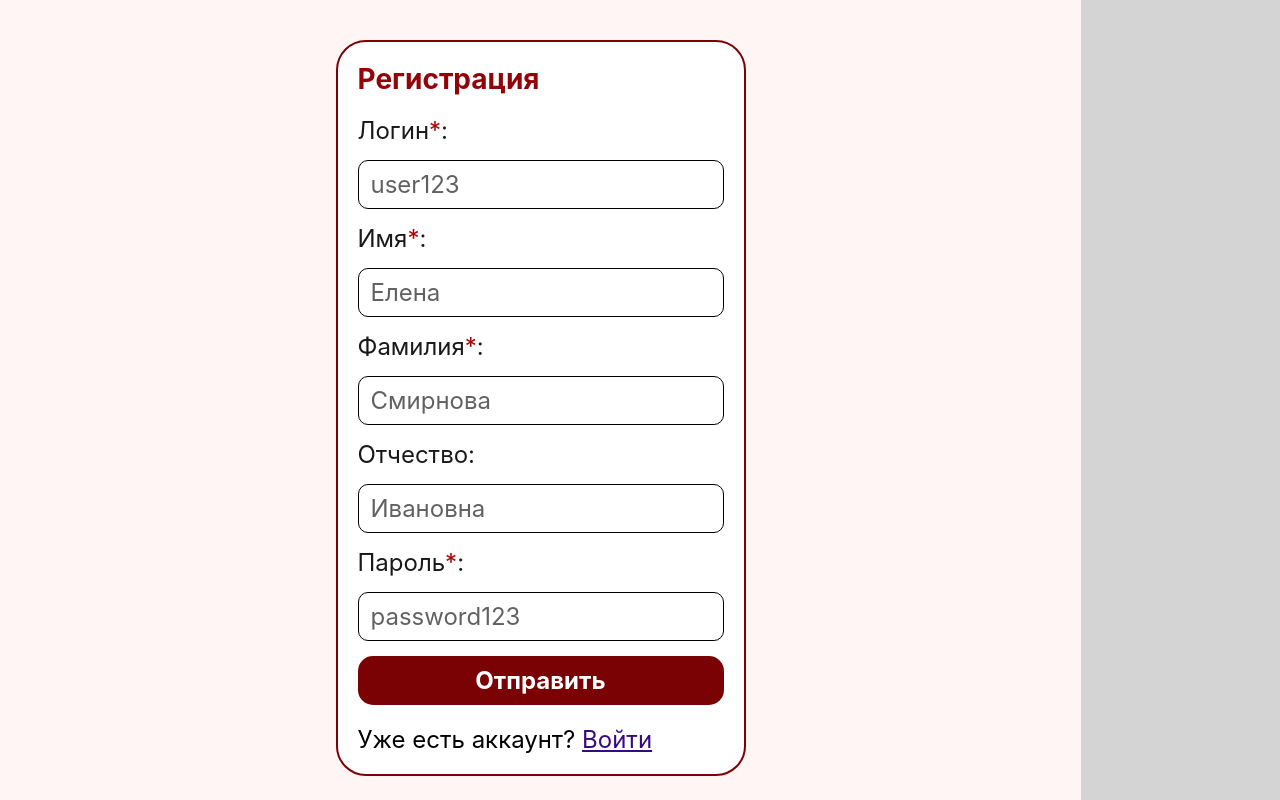
Test: Registration Integration › отображает ошибку при неудачной регистрации (409)
The width and height of the screenshot is (1280, 800).
Type "existing" into the field with placeholder "user123".
click(540, 184); type("existing")  # box [358,160,724,209]
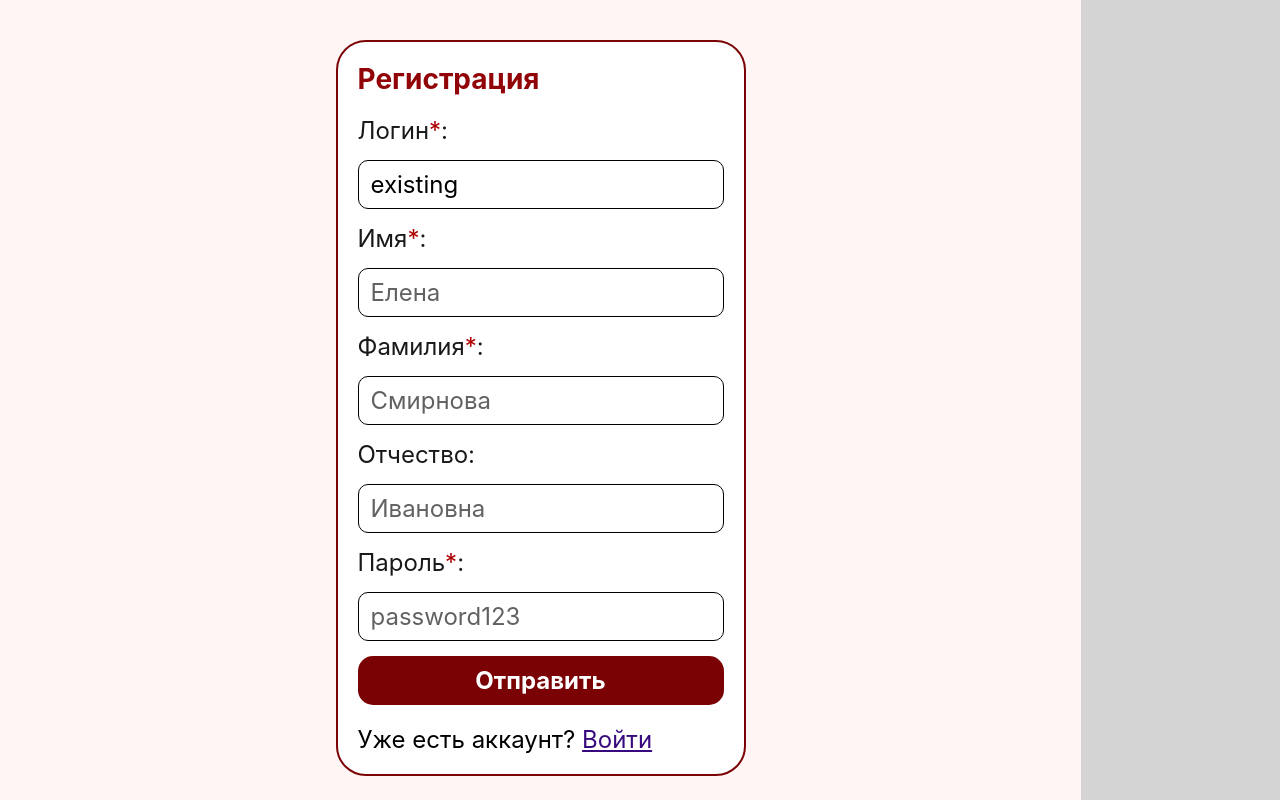
Type "Существ" into the field with placeholder "Елена".
click(540, 292); type("Существ")  # box [358,268,724,317]
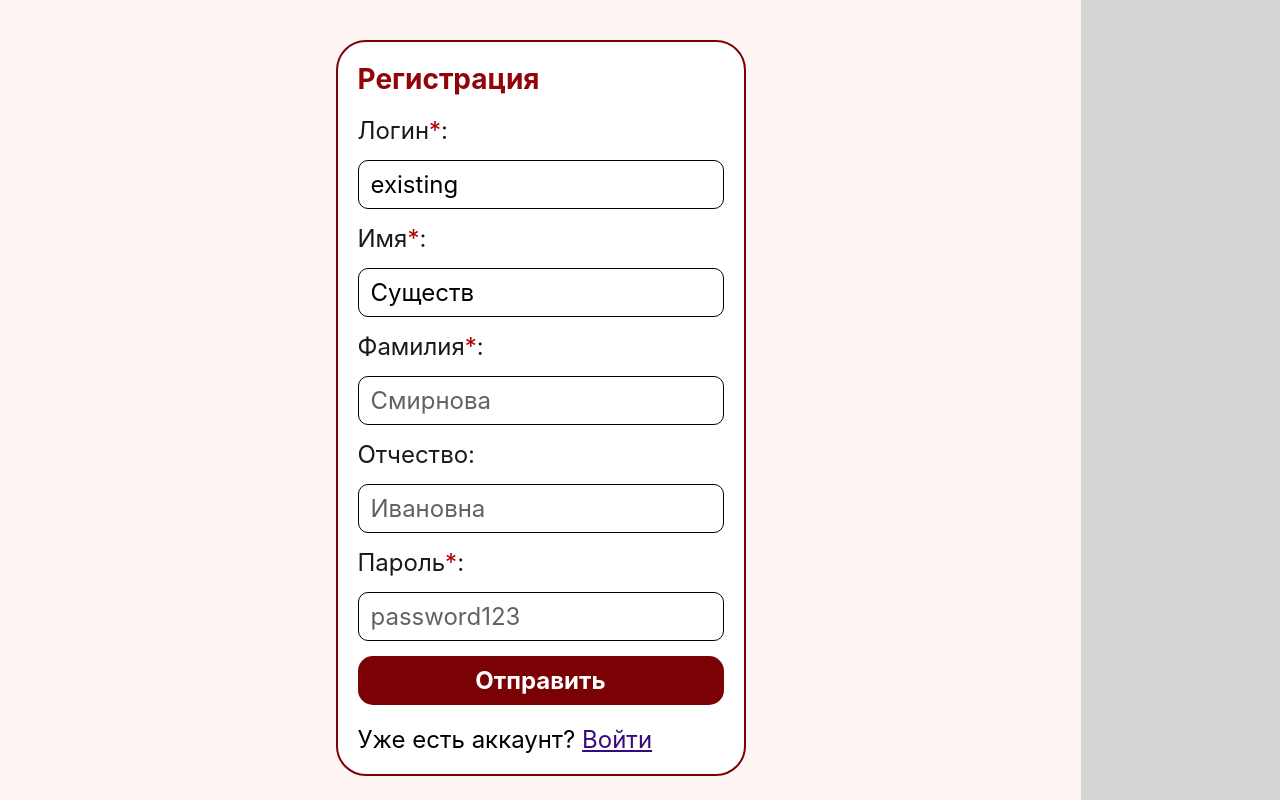
Type "Пользователь" into the field with placeholder "Смирнова".
click(540, 400); type("Пользователь")  # box [358,376,724,425]
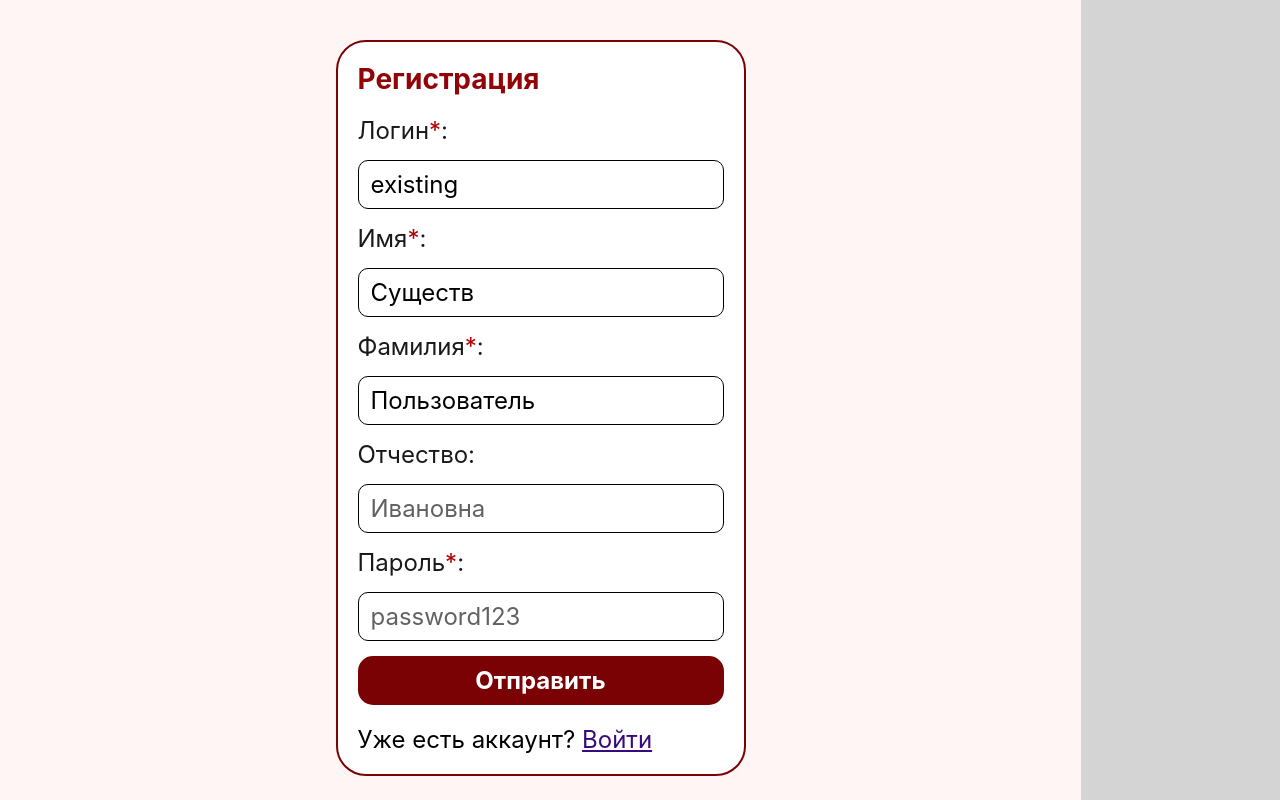
Type "password123" into the password field with placeholder "password123".
click(540, 616); type("password123")  # box [358,592,724,641]
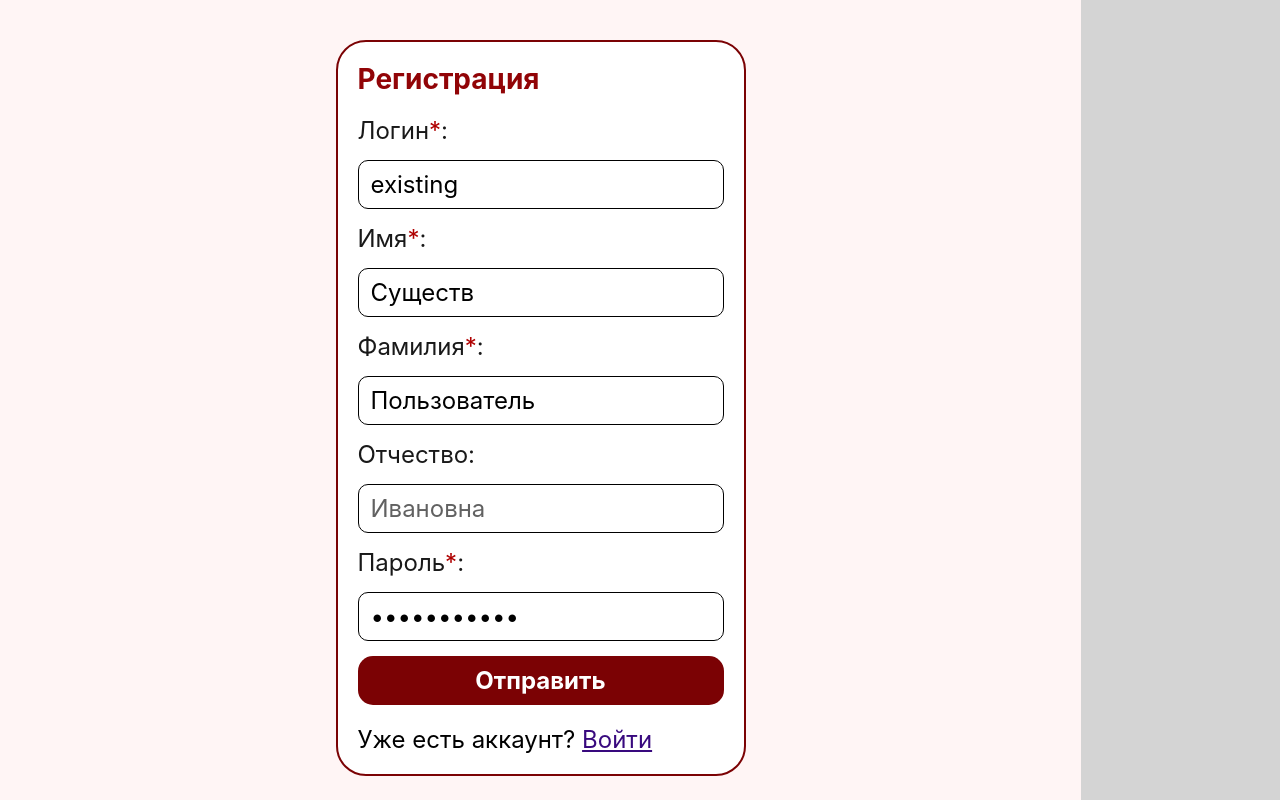
Click the button "Отправить".
click(540, 680)  # box [358,656,724,705]
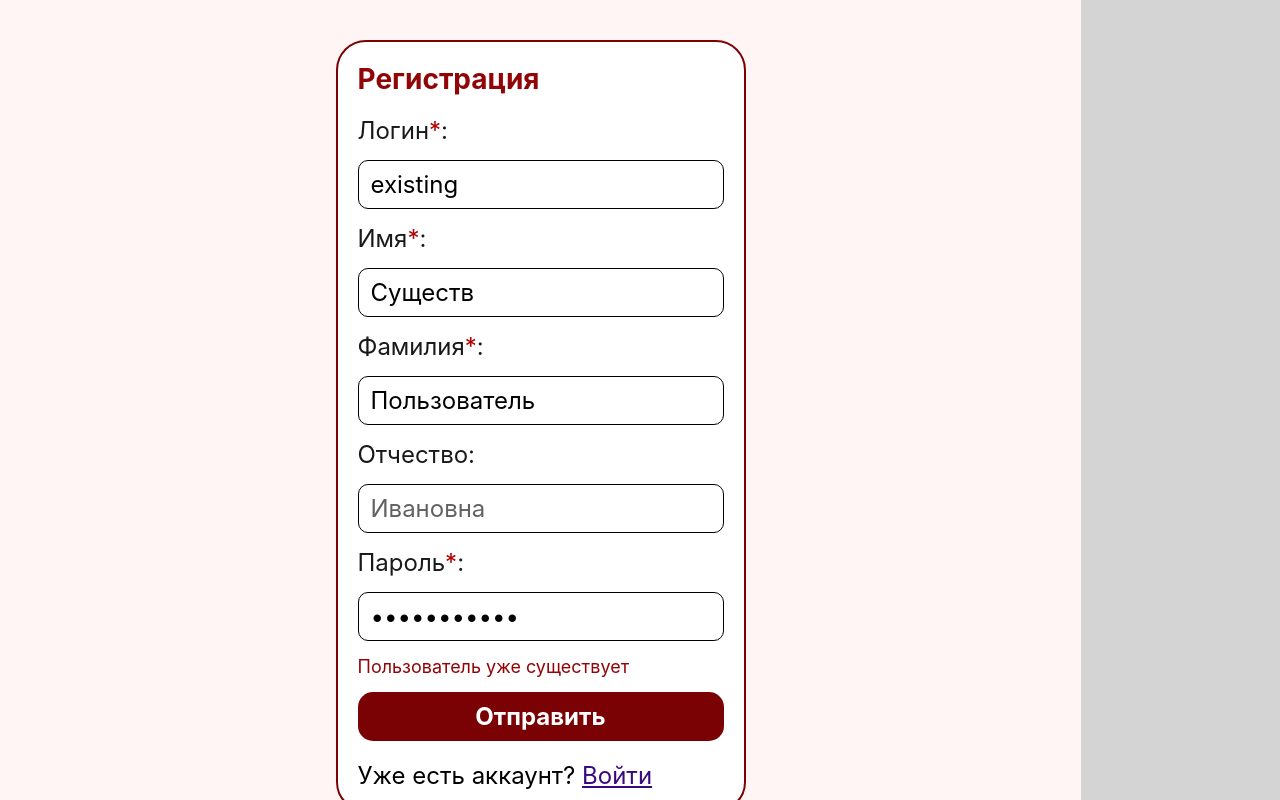
Now the text "Пользователь уже существует" is shown, box [358,656,629,677]
